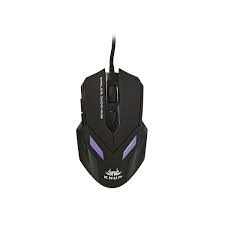mouse: (74, 67, 149, 191)
